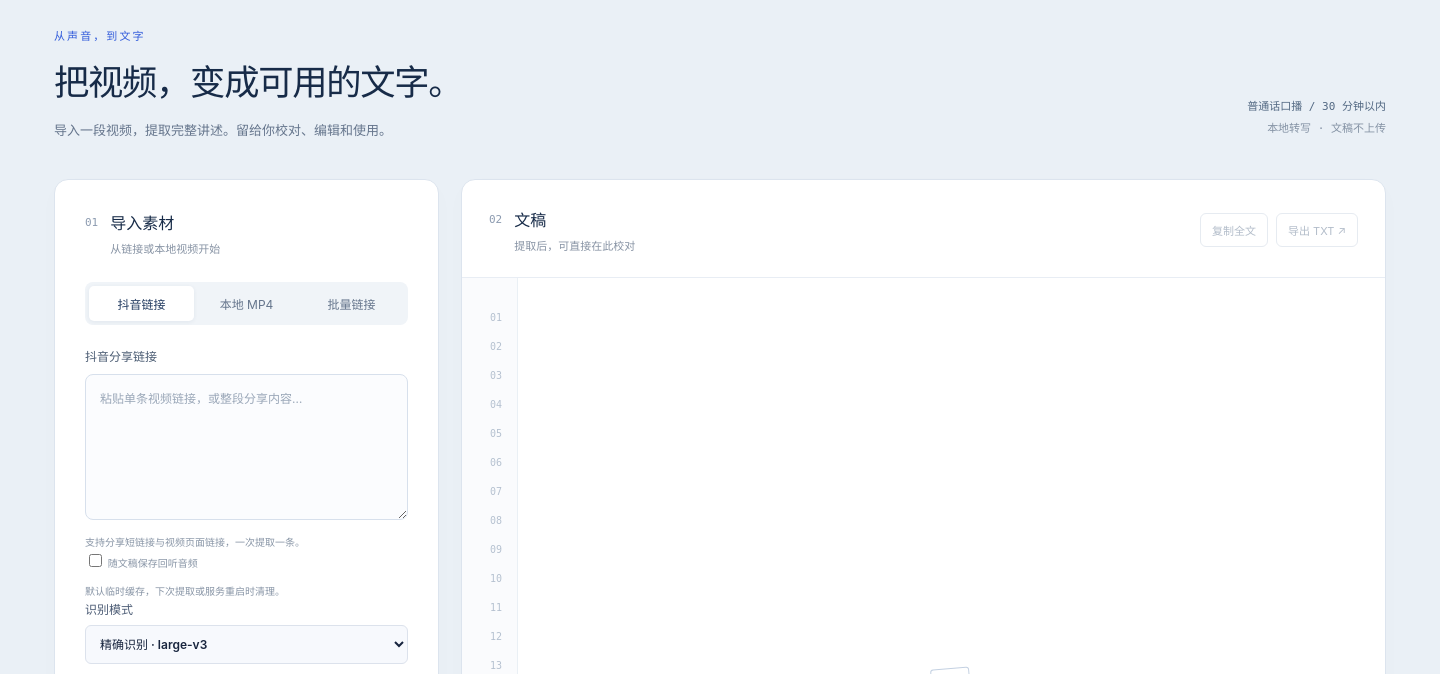
Test: 本地文案工作台 › prepares a missing model explicitly and waits for readiness before submission
Later steps or results of the test are not shown.
In the text box labelled "抖音分享链接": [246, 447] box [85,374,408,520], type "https://v.douyin.com/abc/"
(page scrolled)
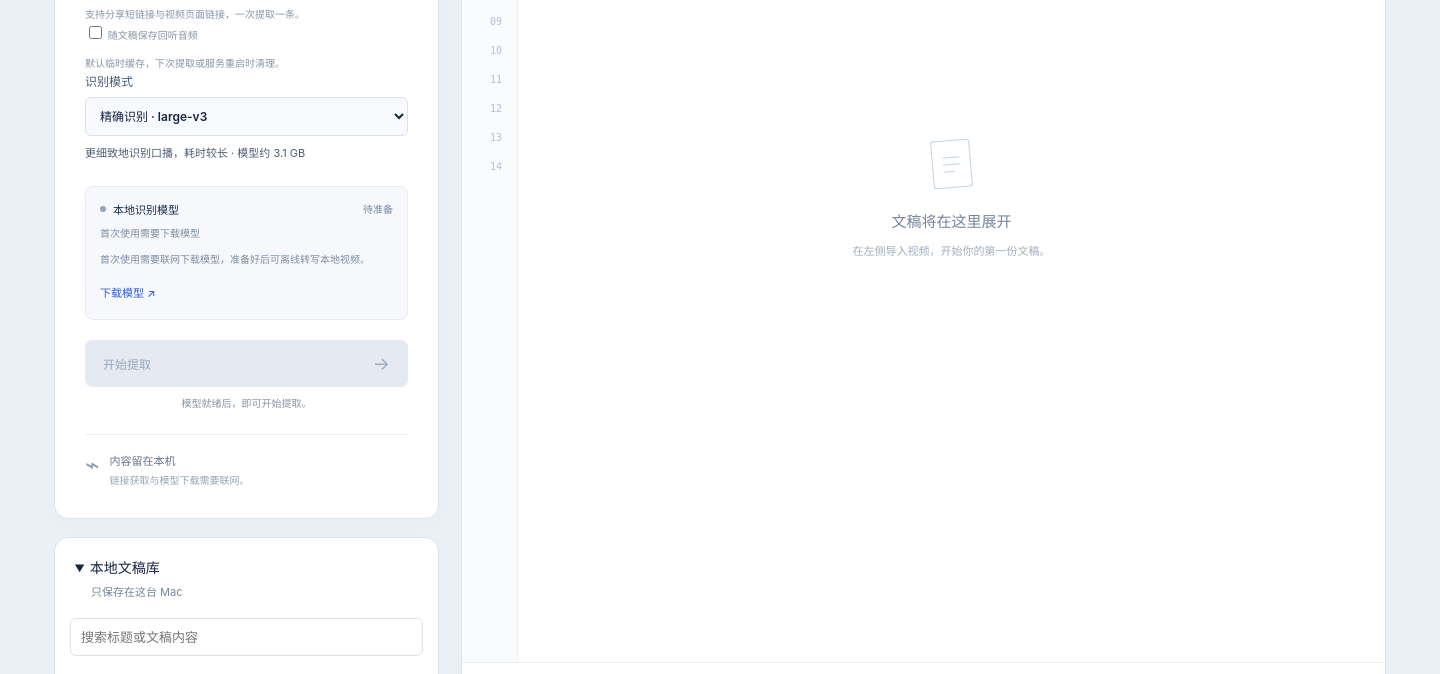
Expected: the button "开始提取 →" is disabled, [85,340,408,387]
Click the button "下载模型 ↗": [130, 292] box [100,279,160,305]
(page scrolled)
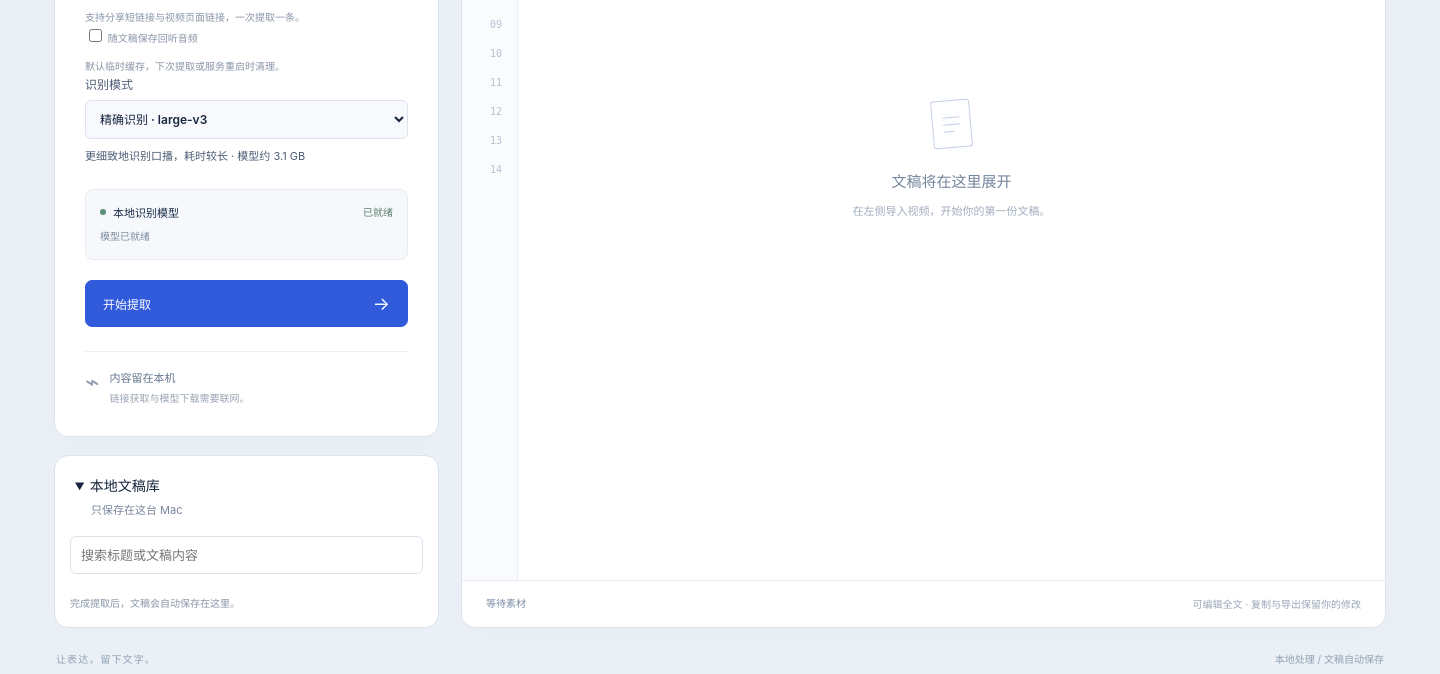
Result: the button "开始提取 →" is enabled at [85,280,408,327]
